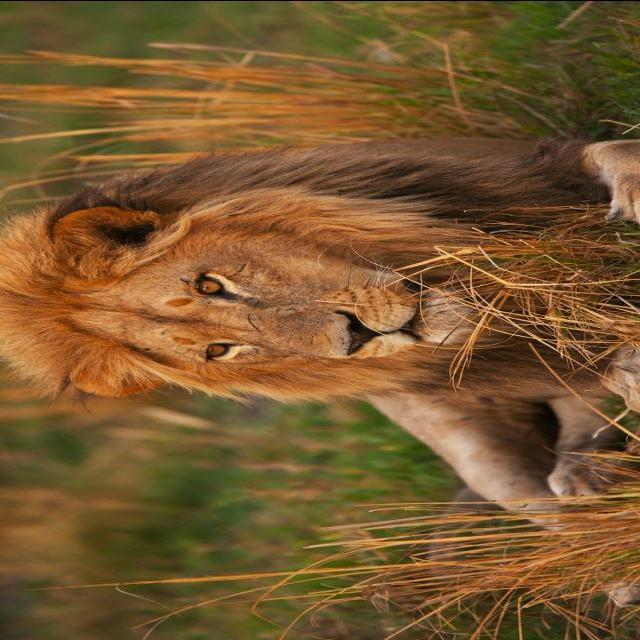lions: (0, 89, 640, 589)
